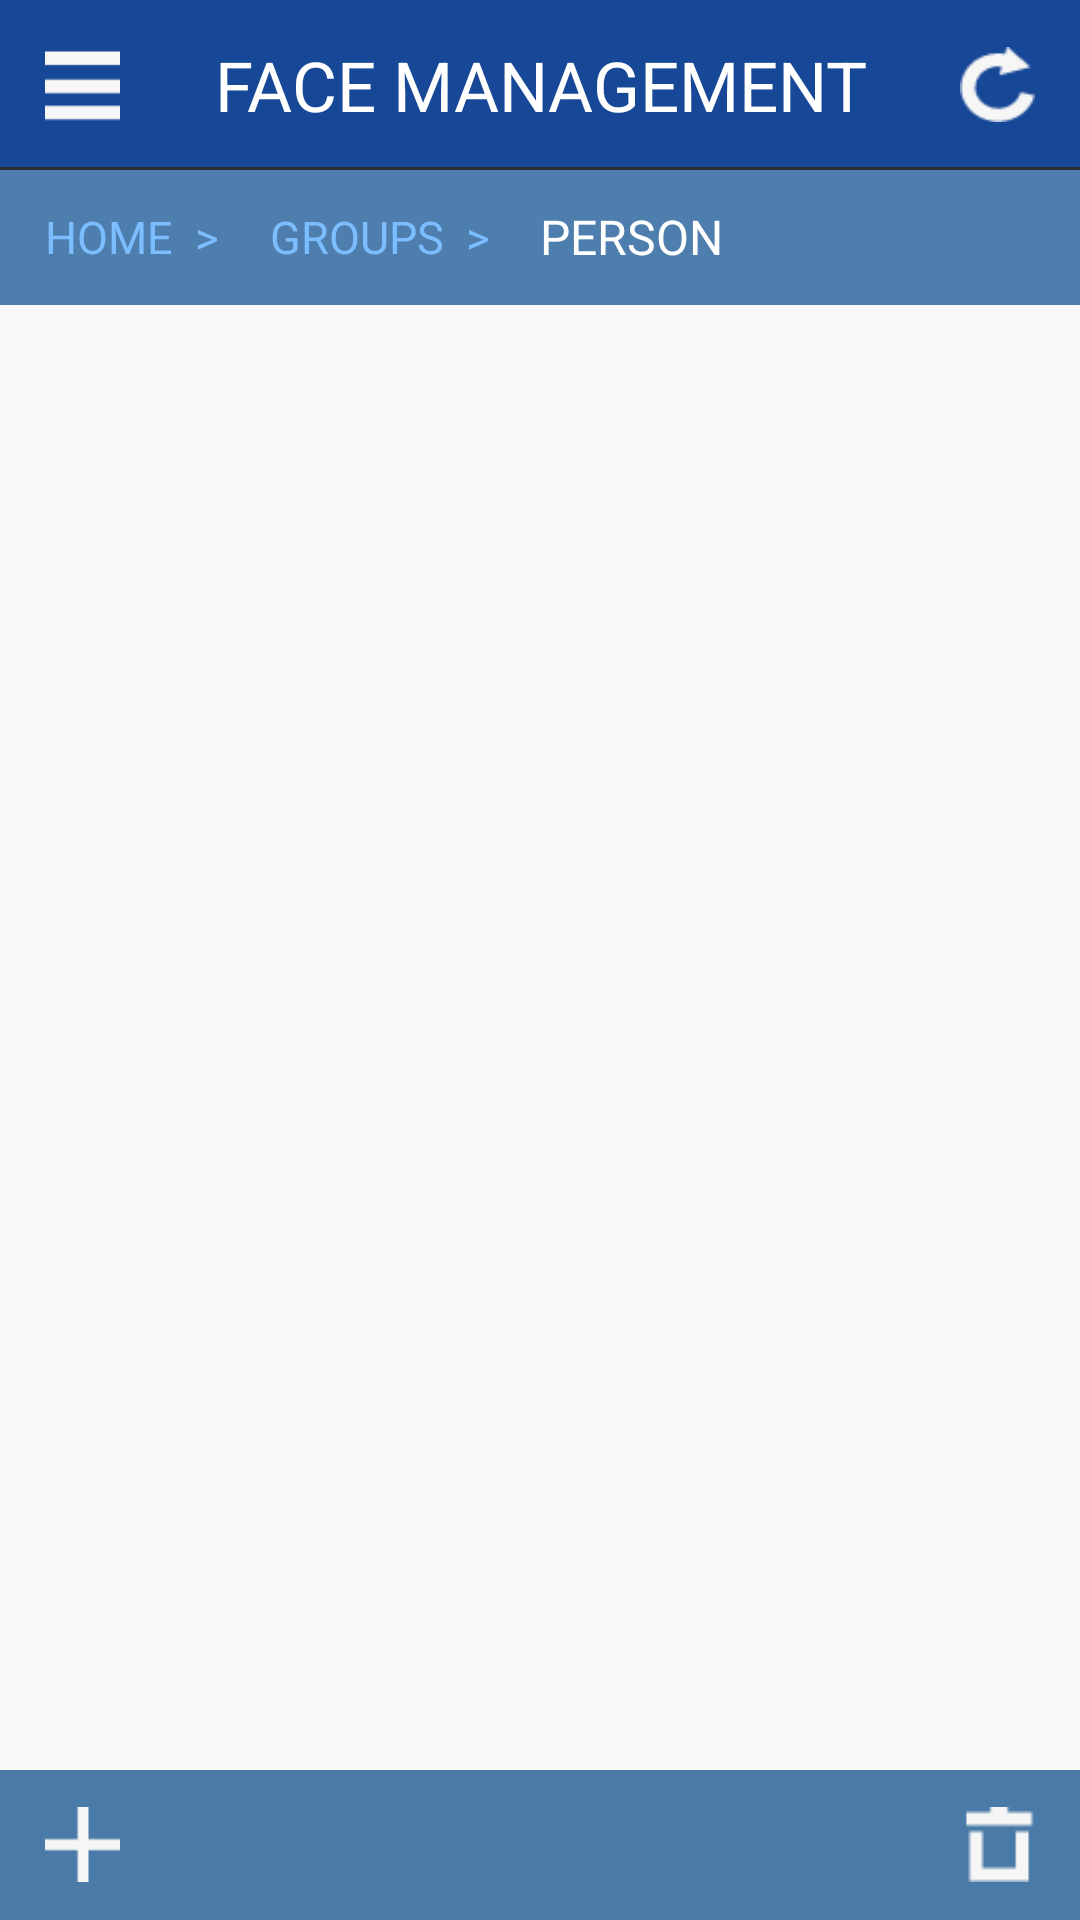

Point at icon controls on the screen. Image size 1080w x 1920h, points as (x,y).
caicaiadd: (82,1844)
delete: (999,1844)
menubutton: (82,86)
refresh: (997,84)
